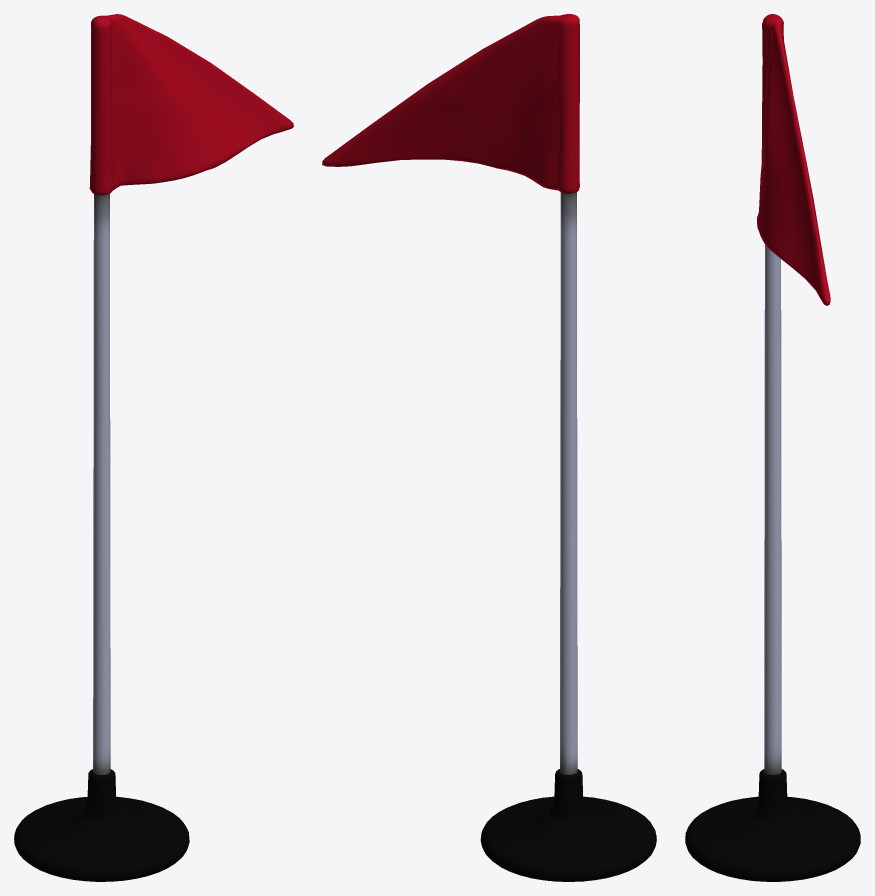
File: FlagFbx.fbx
The picture shows the model from 3 angles, left to right: view 1: azimuth 30°, elevation 25°; view 2: azimuth 150°, elevation 25°; view 3: azimuth 270°, elevation 25°; orthographic projection.
Parts seen in each view (by area): view 1: root; view 2: root; view 3: root.
Part boxes in pixels (<box>): root: <box>14,14,293,881</box>; root: <box>322,14,656,881</box>; root: <box>685,14,860,881</box>.
Bounding box in the file's own units: 0.19 × 0.512 × 0.0979.
Materials: 1 (1 with a texture image).
